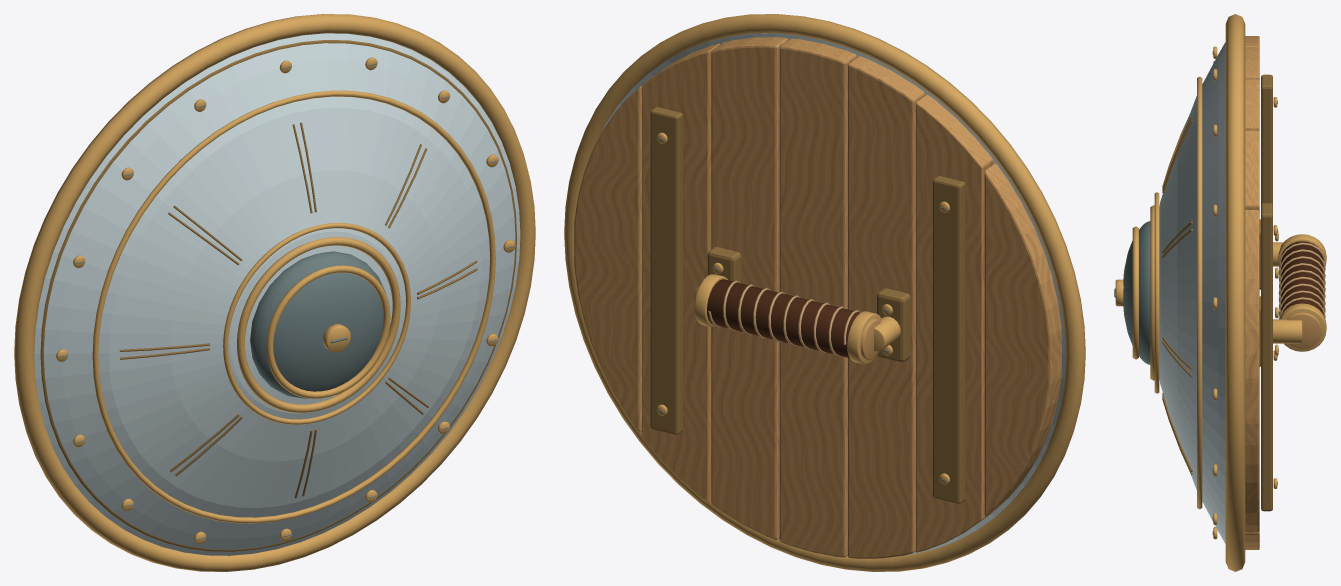
File: short.glb
3 views of the same model, side by side, from view 1: azimuth 30°, elevation 25°; view 2: azimuth 150°, elevation 25°; view 3: azimuth 270°, elevation 25° (orthographic). The views are drawn at different scales.
Visible parts, largest first — view 1: Render_short; view 2: Render_short; view 3: Render_short.
Part boxes in pixels (x1,y1,x2,y2): Render_short: [14, 14, 535, 571]; Render_short: [564, 14, 1085, 571]; Render_short: [1114, 14, 1326, 571].
Bounding box in the file's own units: 0.46 × 0.46 × 0.1747.
Materials: 9 (4 with a texture image).
